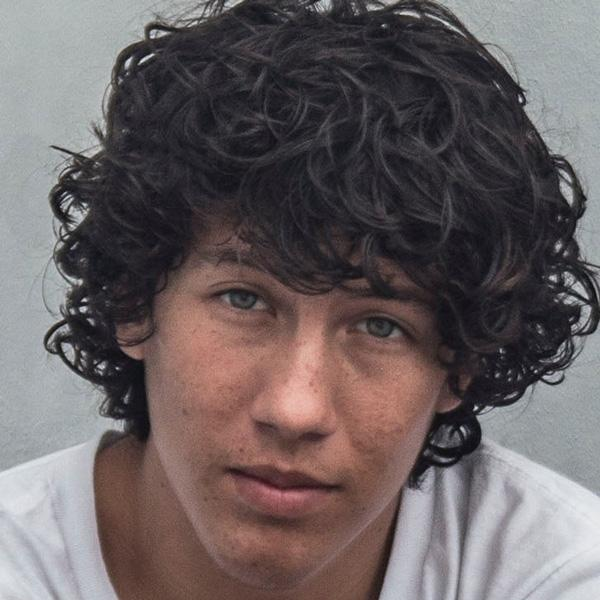Eyes: (198, 269, 284, 330), (341, 298, 424, 356)
